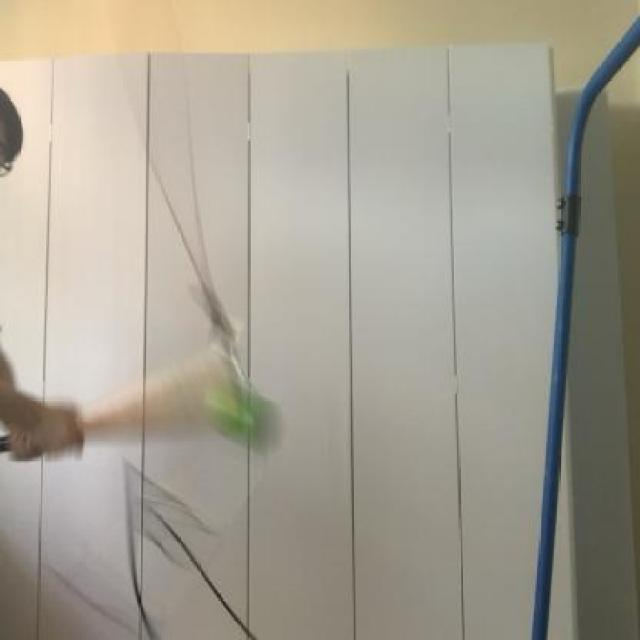baseball: (182, 369, 287, 453)
